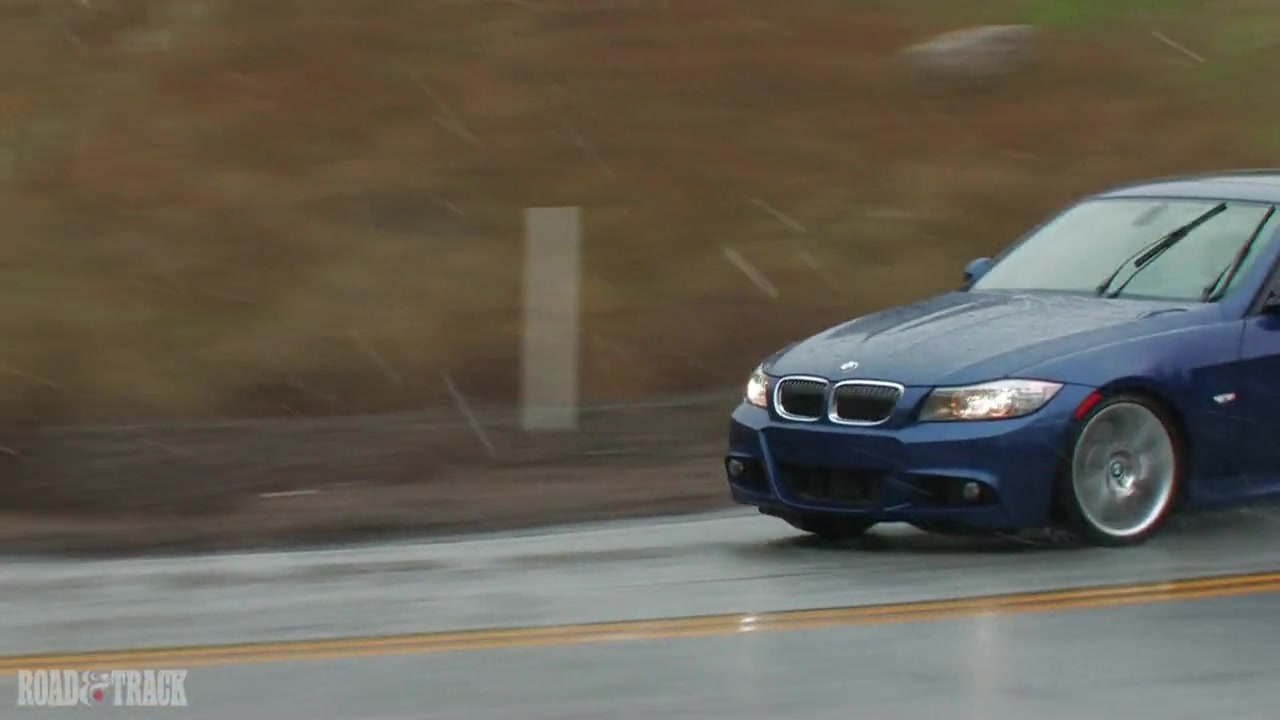car: (726, 168, 1280, 550)
